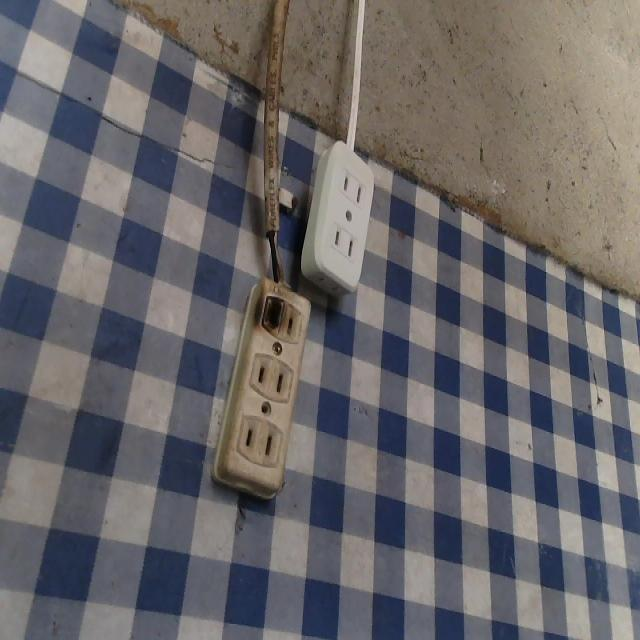-: (258, 289, 288, 336)
